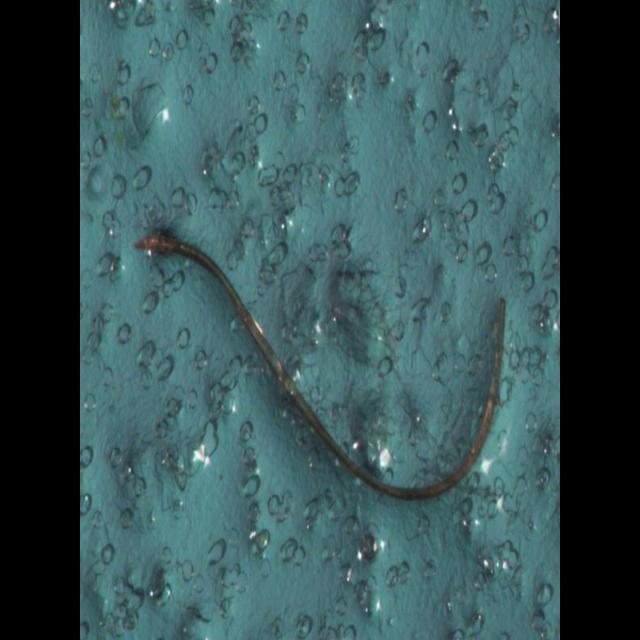Fibre: (133, 226, 507, 502)
